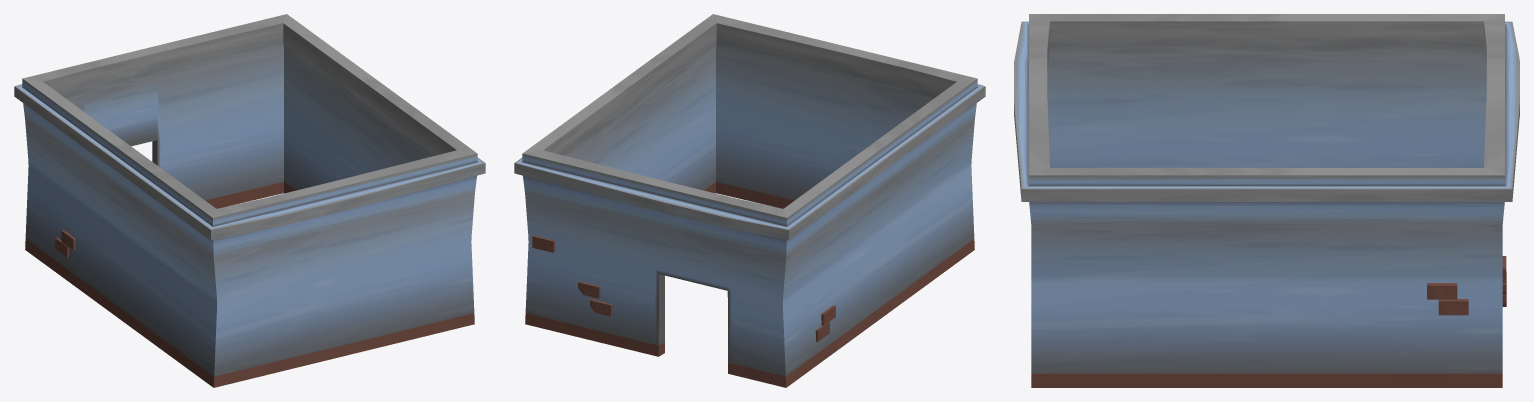
Rendered from Building_Bottom_2.fbx.
The picture shows the model from 3 angles, left to right: view 1: azimuth 30°, elevation 25°; view 2: azimuth 150°, elevation 25°; view 3: azimuth 270°, elevation 25°; orthographic projection. The views are drawn at different scales.
Visible parts, largest first — view 1: Building_Bottom_2; view 2: Building_Bottom_2; view 3: Building_Bottom_2.
Part boxes in pixels (x1=…): Building_Bottom_2: x1=14, y1=14, x2=485, y2=387; Building_Bottom_2: x1=514, y1=14, x2=985, y2=387; Building_Bottom_2: x1=1014, y1=14, x2=1519, y2=387.
Bounding box in the file's own units: 551 × 328 × 703.
